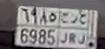5: (47, 11, 55, 46)
6: (20, 7, 29, 45)
8: (38, 8, 46, 45)
9: (30, 7, 37, 44)
J: (60, 11, 69, 45), (78, 12, 87, 46)
R: (69, 15, 77, 45)
